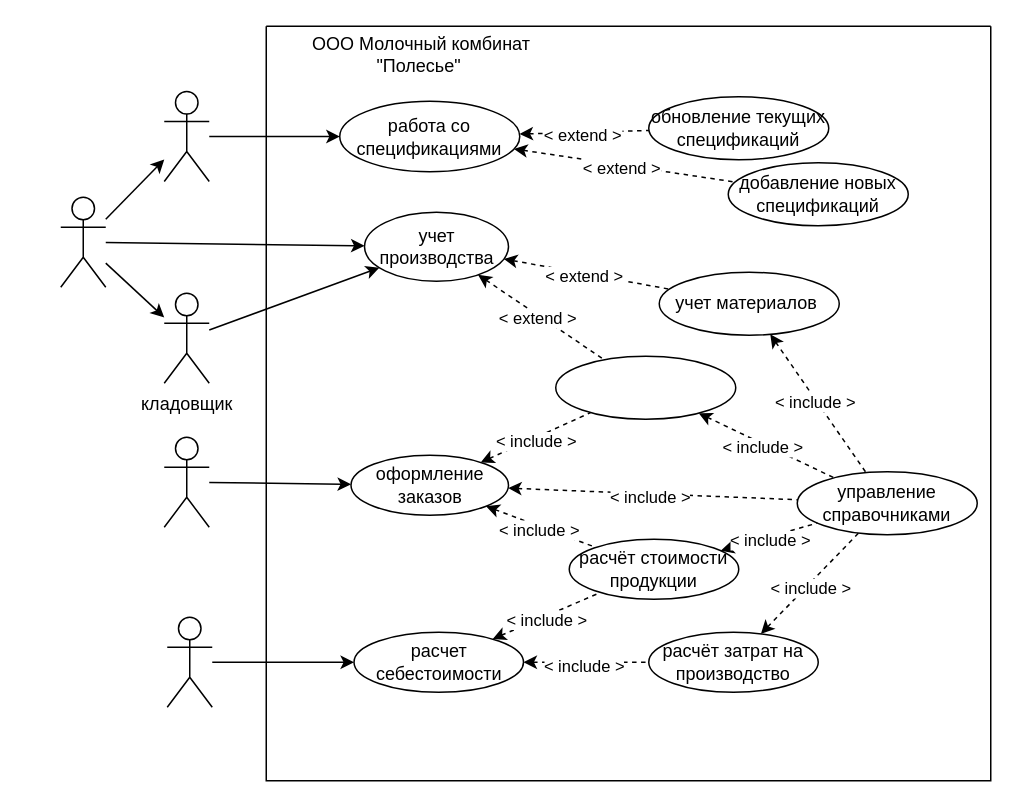
Some shapes in this 1017 by 807 pixel diagram are drawn without their labels. The centre of each missing label's shape, as x and y in pixels:
менеджер по продажам: (x=186, y=481)
начальник производства: (x=82, y=241)
технолог: (x=186, y=136)
учет продукции: (x=645, y=387)
экономист: (x=189, y=661)
